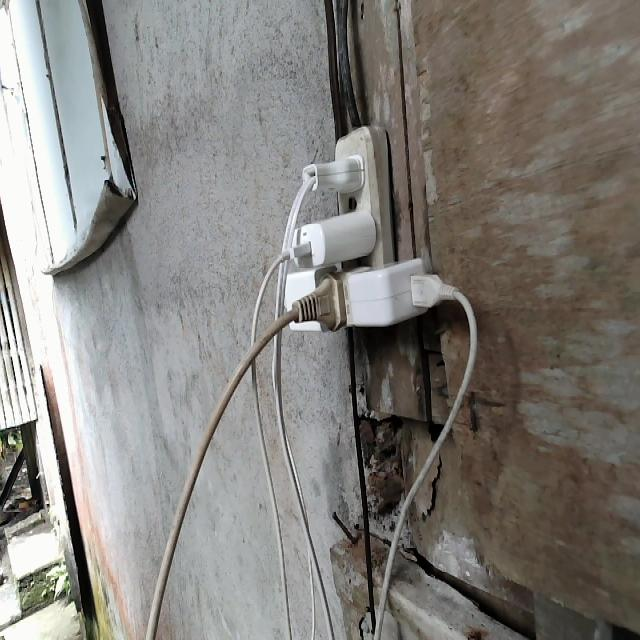-: (273, 119, 448, 332)
